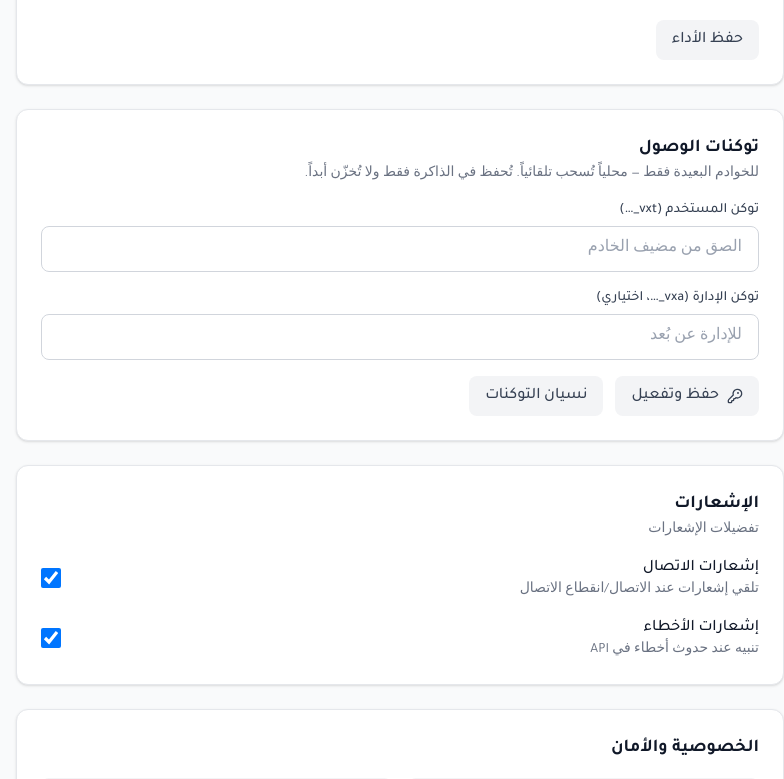
SettingsTab › token save with empty inputs stores nulls and still activates
(page scrolled)
Click the button "حفظ وتفعيل": point(687, 396) [616,376,759,416]
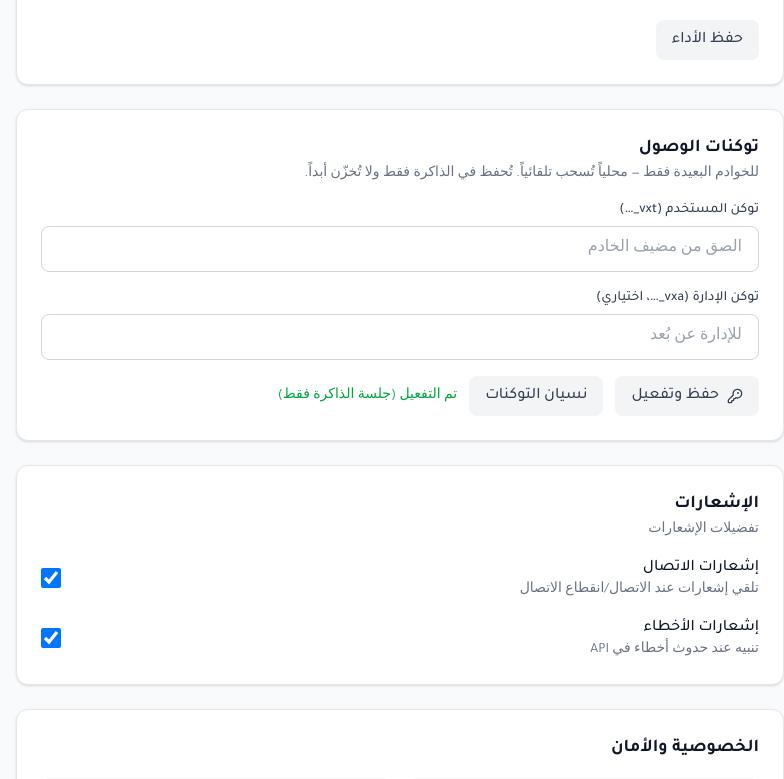
Expected: the text "تم التفعيل (جلسة الذاكرة فقط)" is shown, [278,386,457,406]
